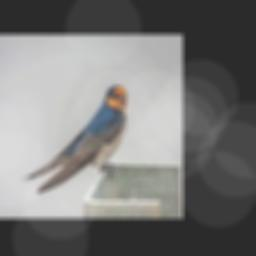Swallow: (21, 86, 127, 193)
